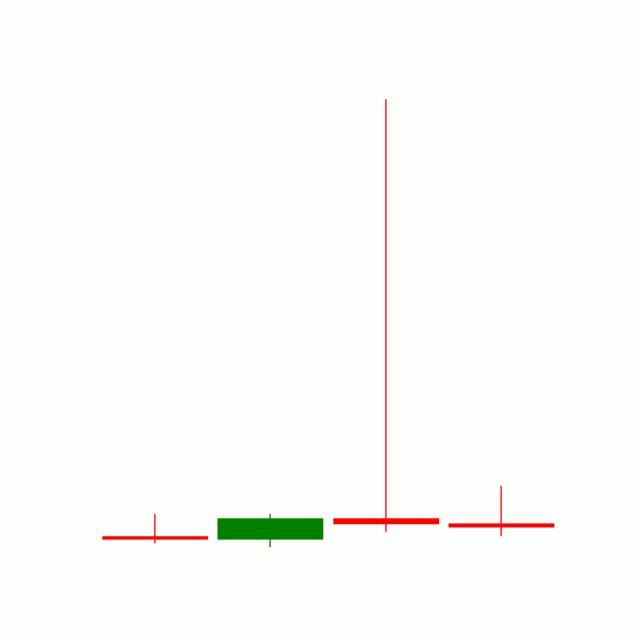Spinning Top: (329, 95, 445, 537)
